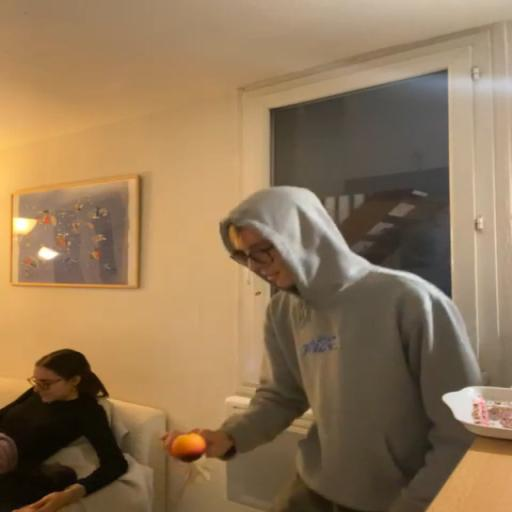kendama_ball: (170, 432, 206, 464)
